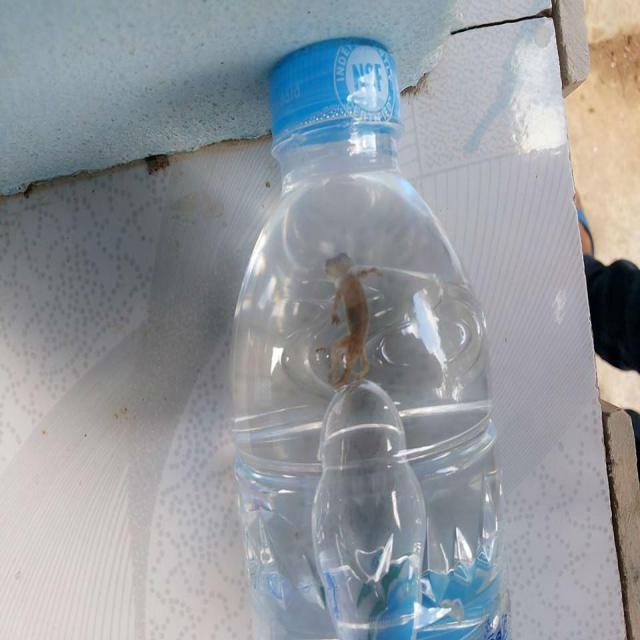bottle: (216, 45, 494, 640)
